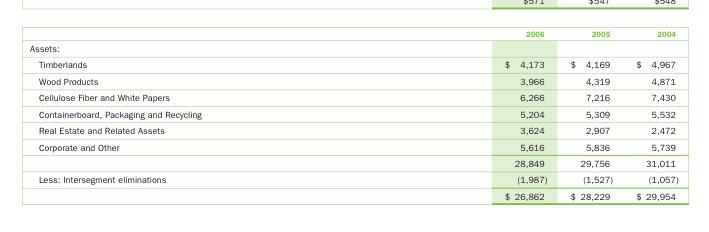table: (28, 28, 677, 200)
table column: (28, 28, 352, 200), (352, 28, 557, 200), (557, 28, 623, 200), (623, 28, 677, 200)
table column header: (28, 28, 677, 40)
table projected row header: (28, 40, 677, 56)
table row: (28, 72, 677, 89), (28, 121, 677, 138), (28, 154, 677, 171), (28, 40, 677, 56), (28, 56, 677, 72), (28, 89, 677, 105), (28, 105, 677, 121), (28, 138, 677, 154), (28, 171, 677, 187), (28, 187, 677, 200), (28, 28, 677, 40)
